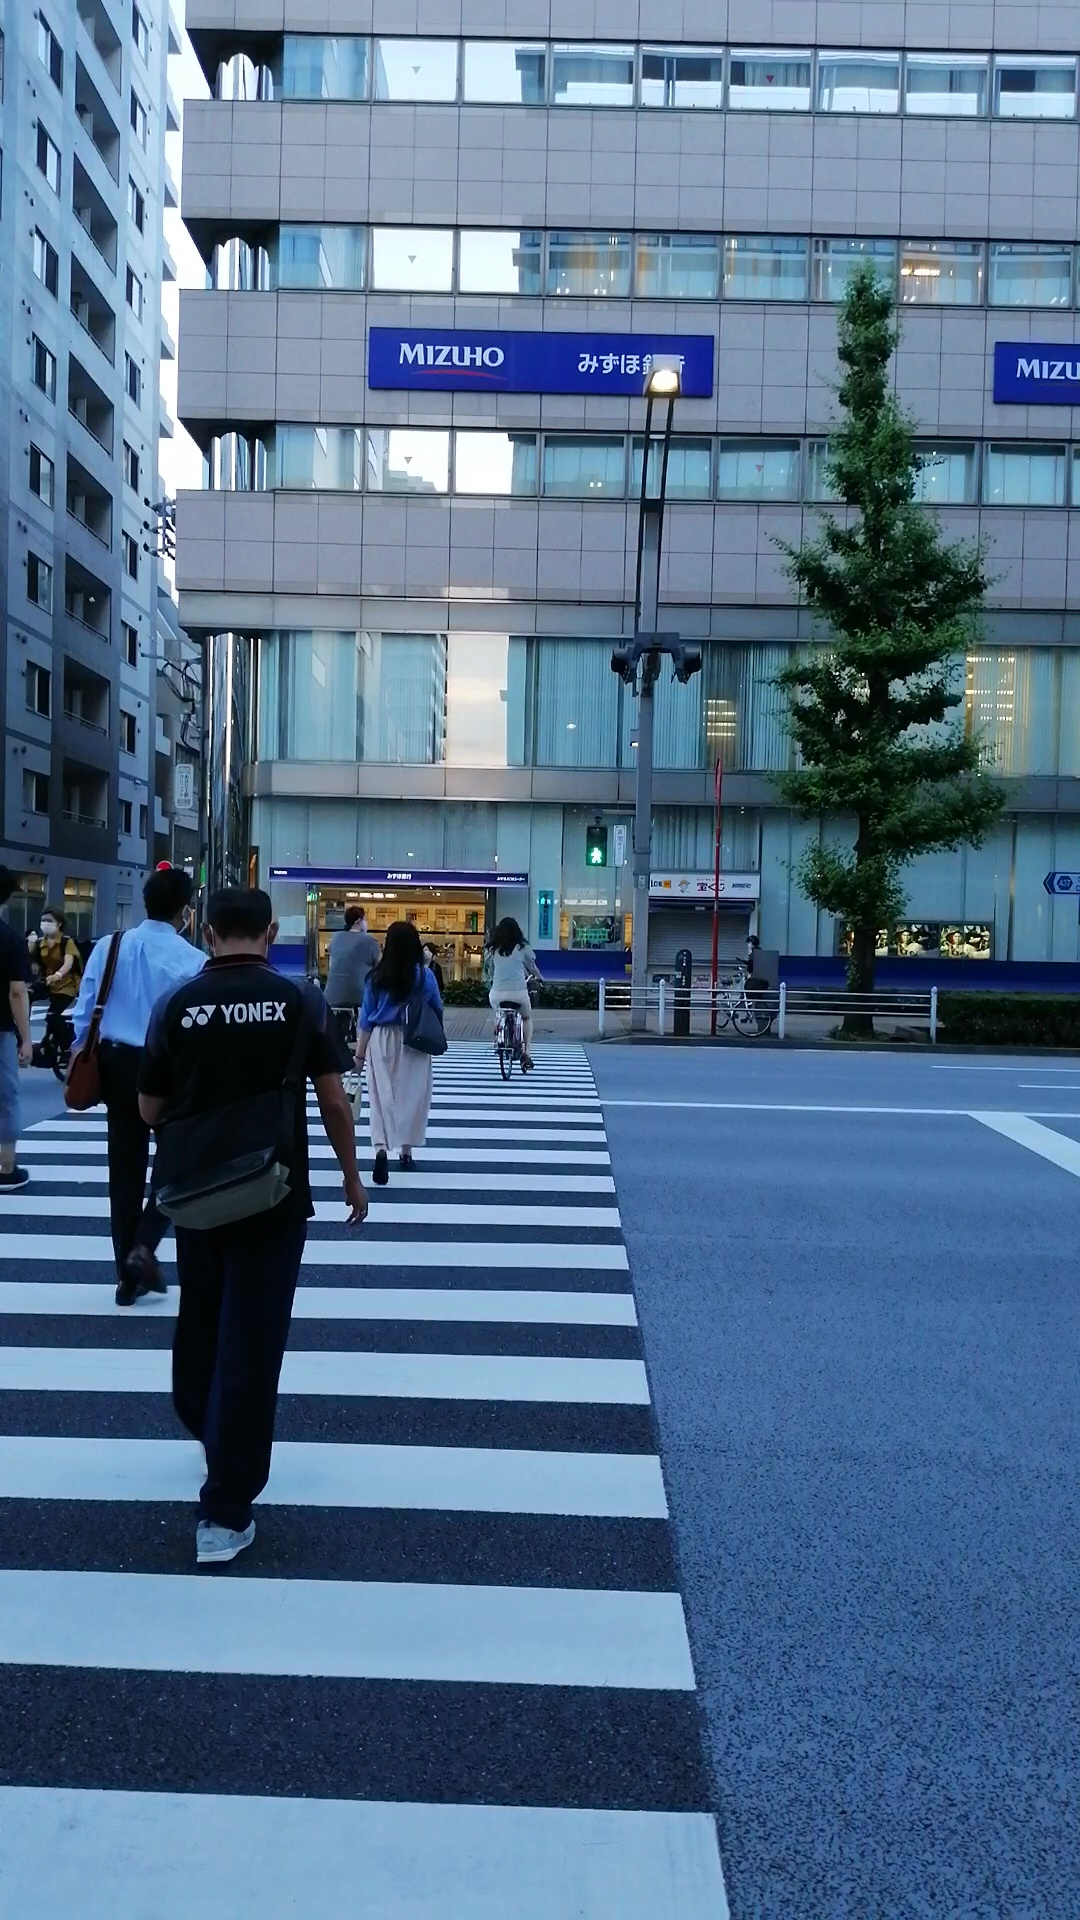green: (585, 823, 608, 868)
